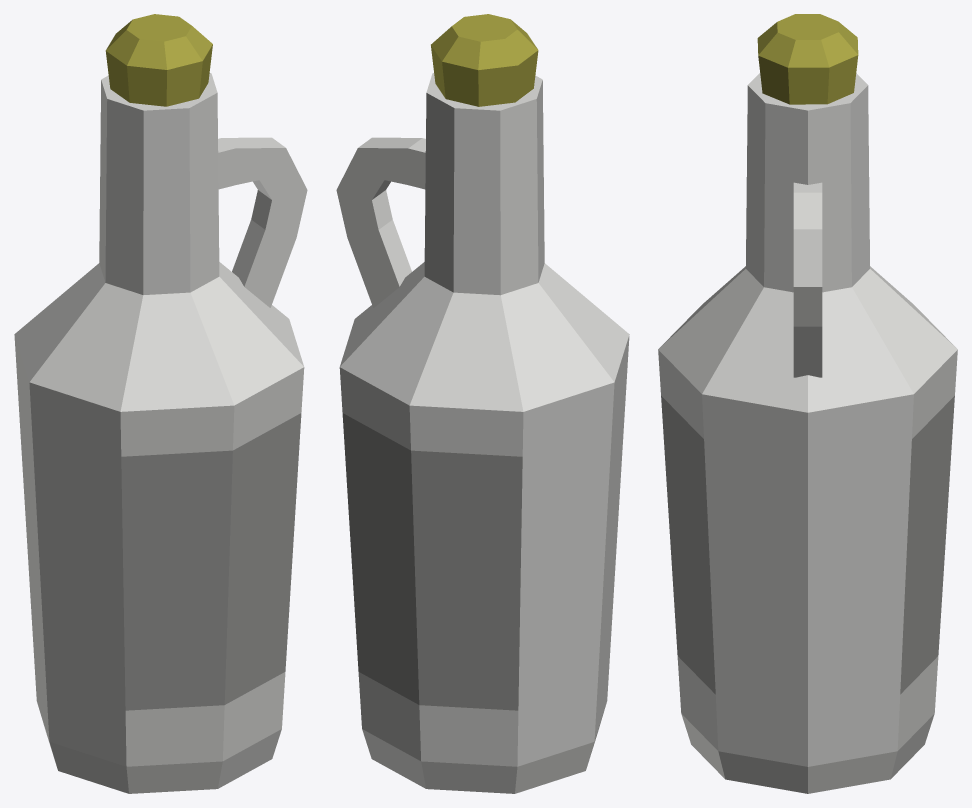
File: Bottle_5_White.fbx
3 renders of one model, left to right at view 1: azimuth 30°, elevation 25°; view 2: azimuth 150°, elevation 25°; view 3: azimuth 270°, elevation 25°, orthographic.
Parts seen in each view (by area): view 1: Bottle_5_White_Part_1, Bottle_5_White_Part_2, Bottle_5_White_Part_3; view 2: Bottle_5_White_Part_1, Bottle_5_White_Part_2, Bottle_5_White_Part_3; view 3: Bottle_5_White_Part_1, Bottle_5_White_Part_2, Bottle_5_White_Part_3.
Part boxes in pixels (x1,y1,x2,y2): Bottle_5_White_Part_1: [14, 73, 307, 793]; Bottle_5_White_Part_2: [121, 413, 301, 710]; Bottle_5_White_Part_3: [105, 14, 212, 106]; Bottle_5_White_Part_1: [336, 73, 629, 793]; Bottle_5_White_Part_2: [342, 413, 522, 710]; Bottle_5_White_Part_3: [431, 14, 538, 106]; Bottle_5_White_Part_1: [658, 73, 957, 793]; Bottle_5_White_Part_2: [661, 396, 954, 694]; Bottle_5_White_Part_3: [757, 14, 858, 104].
Size of the model in its own units: 12.08 by 30.59 by 11.58.
